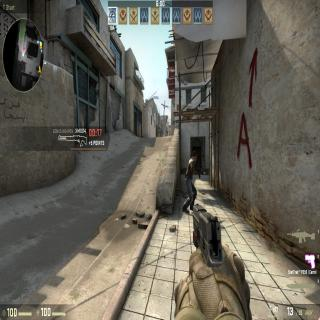T-Body: (183, 149, 198, 213)
T-Head: (192, 149, 198, 164)
